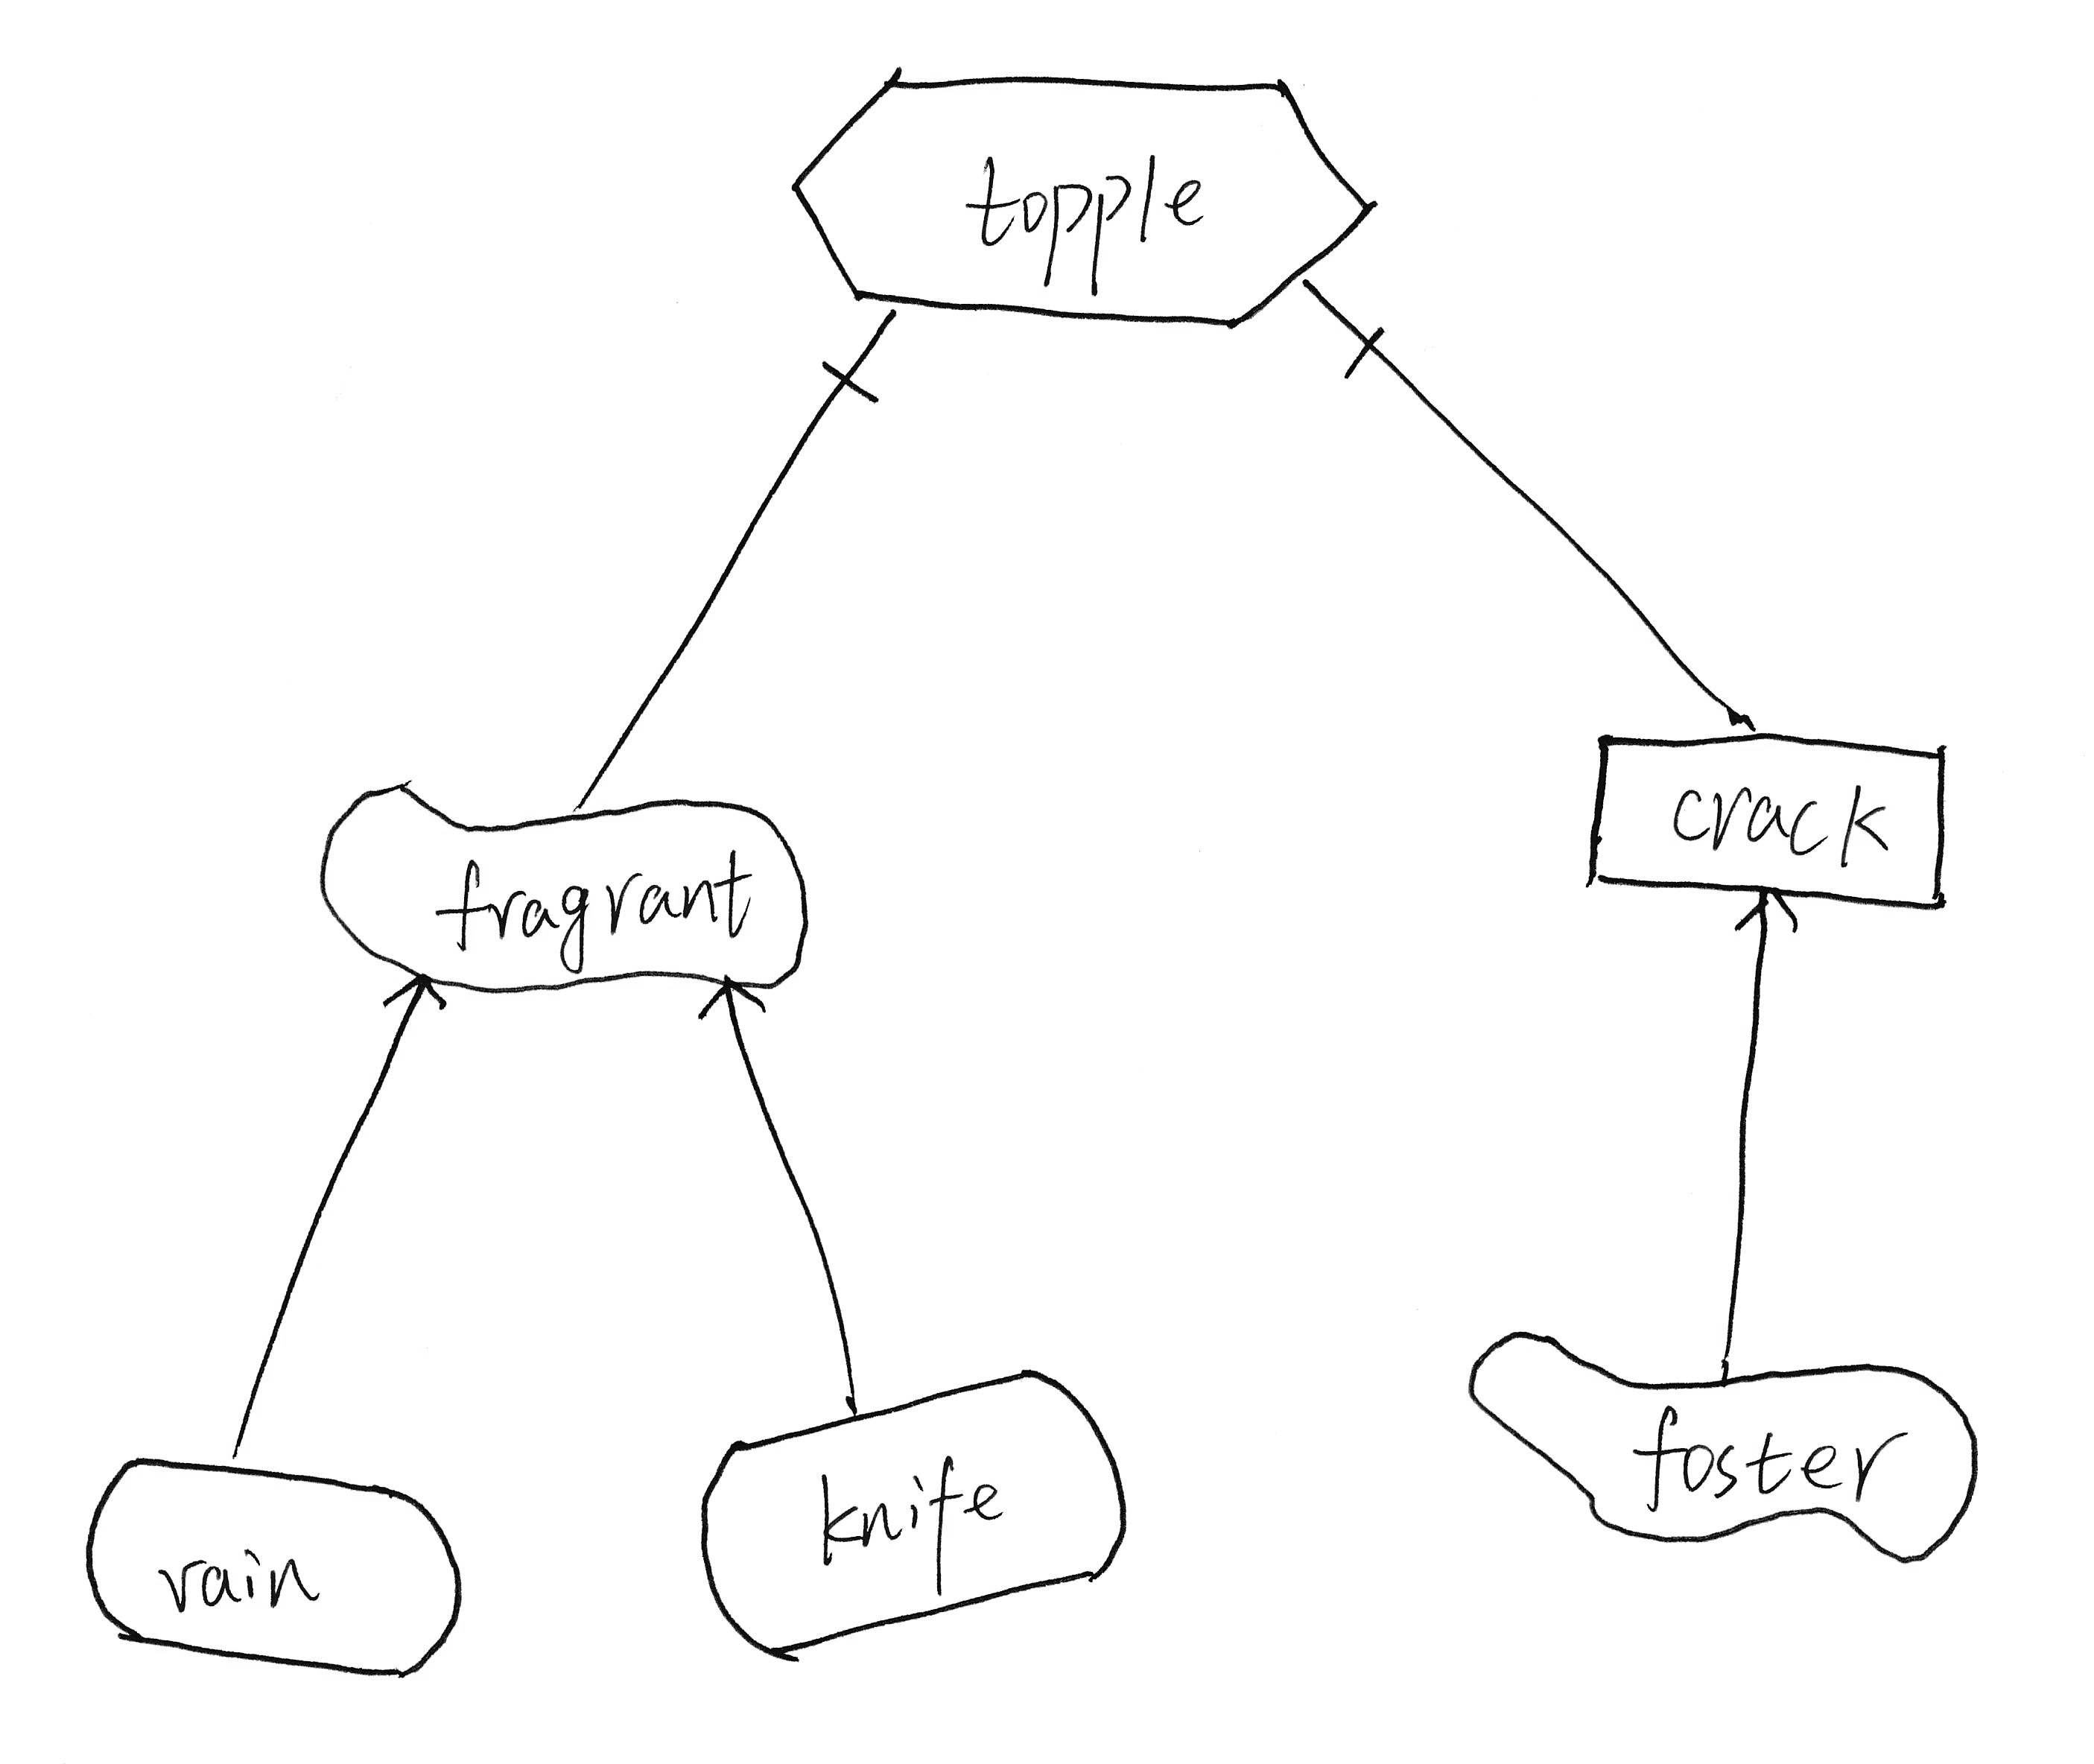and: (801, 320, 899, 432), (1321, 299, 1412, 404)
arrow: (364, 961, 471, 1038), (682, 962, 782, 1038), (1718, 880, 1812, 954)
goal: (679, 1347, 1148, 1678), (68, 1433, 483, 1694)
quality: (1448, 1316, 1998, 1582), (299, 751, 824, 1012)
resource: (1557, 700, 1977, 943)
task: (782, 38, 1393, 347)
